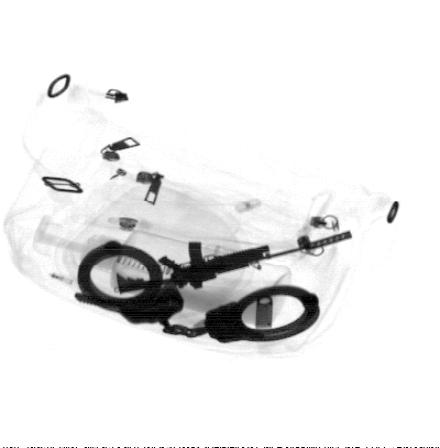Gun: (114, 230, 352, 294)
HandCuffs: (73, 241, 322, 345)
